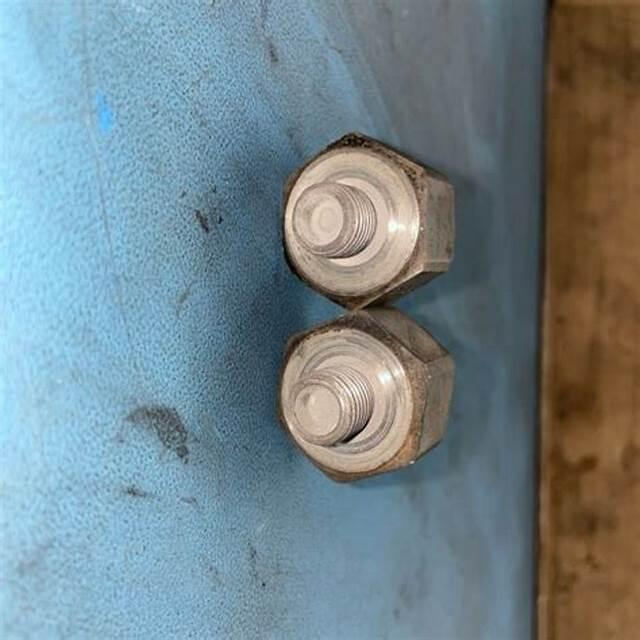bolt nut: (274, 126, 456, 310), (268, 312, 457, 484)
